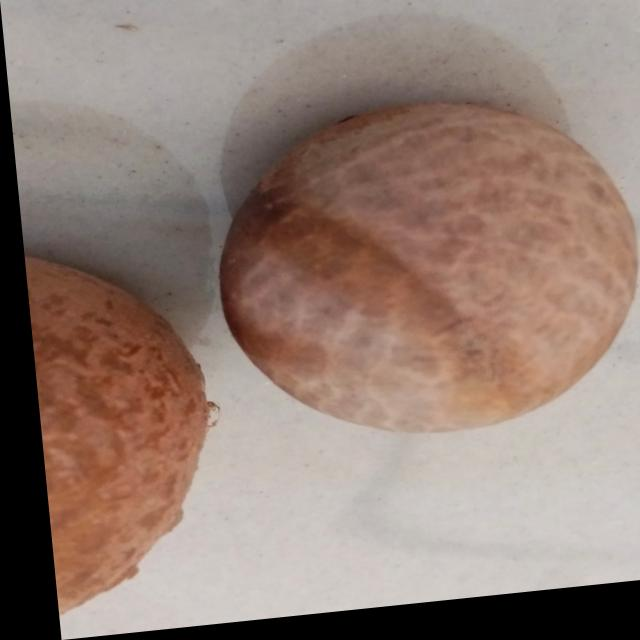good: (16, 202, 224, 613)
karigot: (224, 82, 640, 472)
